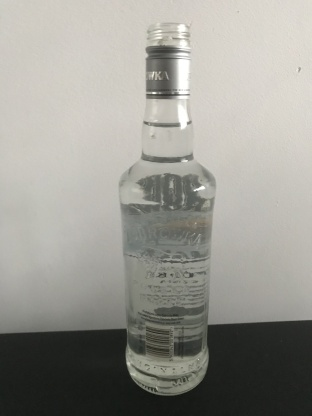nakretka: (143, 20, 193, 101)
